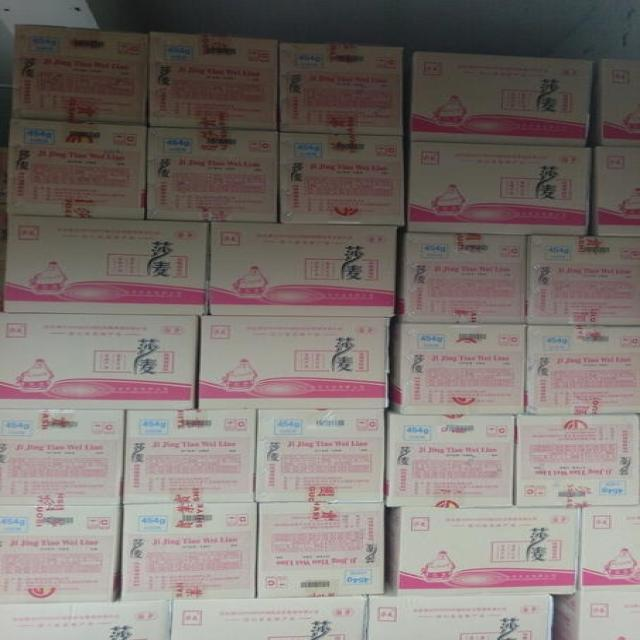box: (3, 215, 211, 314), (0, 311, 199, 409), (208, 221, 400, 317), (199, 315, 390, 410), (408, 51, 596, 146), (407, 141, 592, 234), (386, 507, 581, 595), (6, 116, 150, 218), (8, 23, 150, 124), (119, 503, 260, 599), (147, 125, 280, 222), (386, 411, 516, 508), (123, 409, 257, 503), (150, 32, 278, 130), (391, 233, 527, 325), (389, 323, 524, 415), (256, 502, 384, 598), (0, 409, 126, 506), (0, 505, 122, 604), (280, 41, 405, 136), (259, 409, 386, 502), (278, 132, 404, 225), (516, 413, 640, 506), (366, 581, 551, 640), (524, 325, 640, 415), (526, 234, 640, 325), (174, 596, 367, 640), (0, 601, 172, 640), (578, 506, 640, 590), (588, 146, 640, 235), (555, 589, 640, 640), (591, 59, 640, 145)
